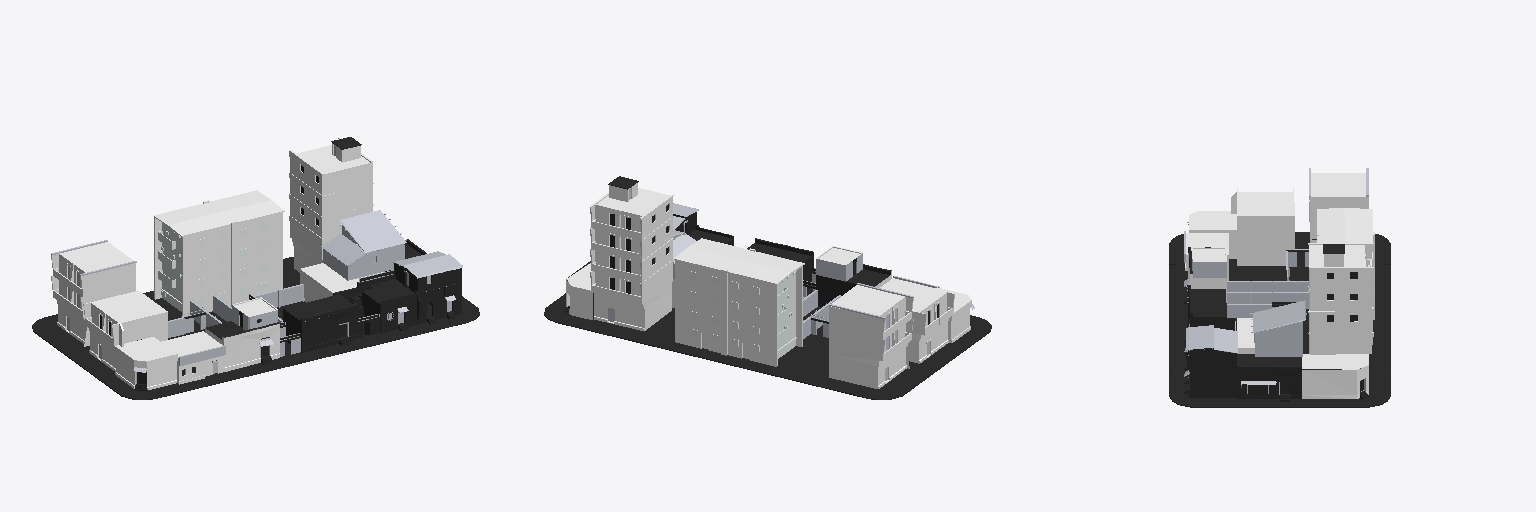
File: CityBlockA.obj
3 views of the same model, side by side, from view 1: azimuth 30°, elevation 25°; view 2: azimuth 150°, elevation 25°; view 3: azimuth 270°, elevation 25° (orthographic).
Visible parts, largest first — view 1: CityBlockA; view 2: CityBlockA; view 3: CityBlockA.
Part boxes in pixels (x1,y1,x2,y2): CityBlockA: (32, 137, 479, 399); CityBlockA: (544, 176, 991, 399); CityBlockA: (1169, 168, 1390, 407).
Size of the model in its own units: 2028 by 700 by 1089.